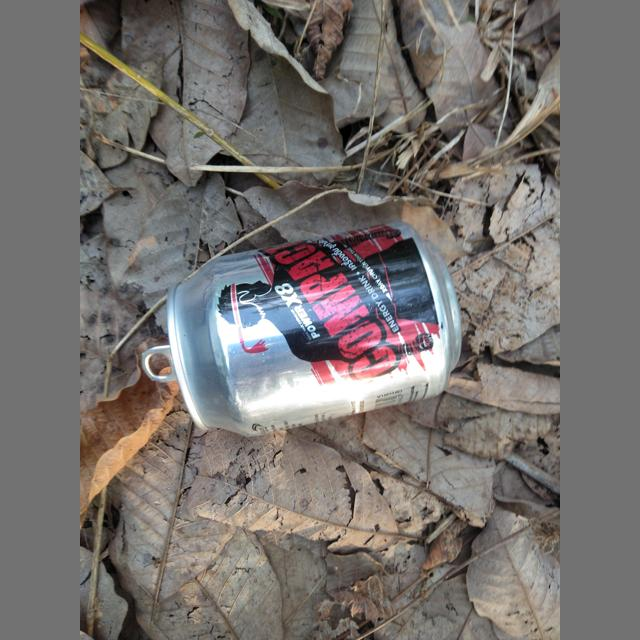litter: (141, 220, 462, 437), (141, 344, 178, 383)
